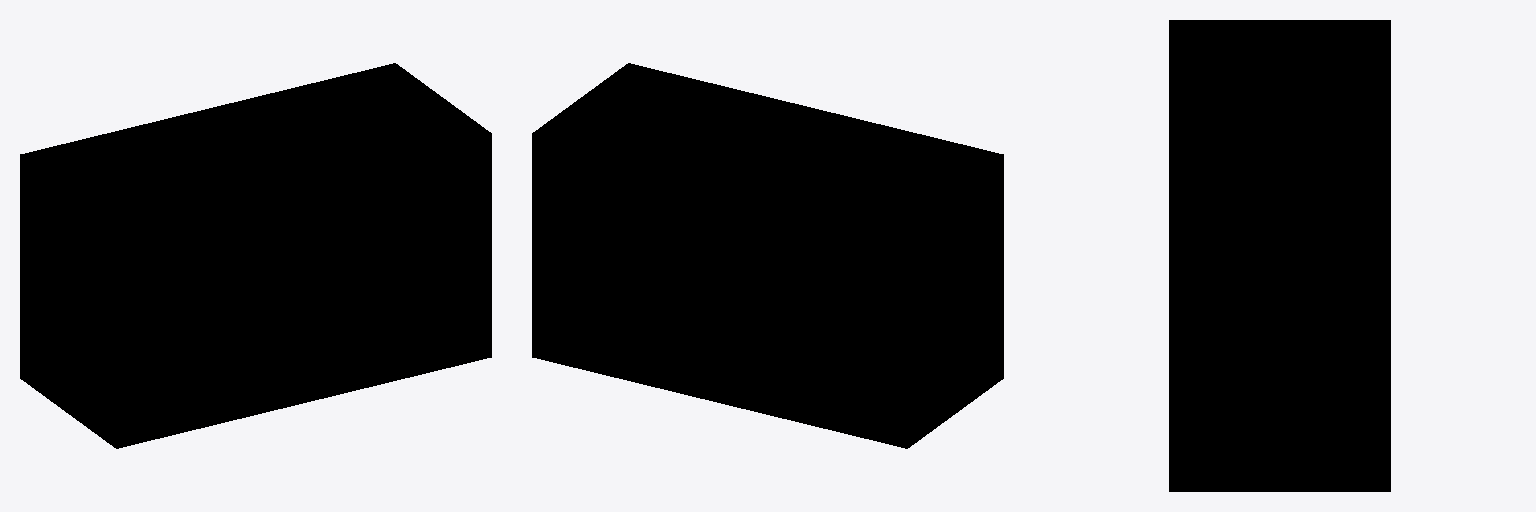
URDF robot description (go2):
<?xml version="1.0"?>
<robot name="go2">
  <link name="base_link">
    <visual>
      <geometry>
        <box size="0.7 0.31 0.4"/>
      </geometry>
      <material name="box_material">
        <color rgba="0.0 0.0 0.0 0.2"/>
      </material>
    </visual>
    <collision>
      <geometry>
        <box size="0.7 0.31 0.4"/>
      </geometry>
    </collision>
    <inertial>
      <mass value="15.0"/>
      <inertia ixx="0.320125" ixy="0" ixz="0" iyy="0.812500" iyz="0" izz="0.732625"/>
    </inertial>
  </link>
</robot>

--- Render facts (derived) ---
Views: 3 orthographic renders of the robot side by side, from view 1: azimuth 30°, elevation 25°; view 2: azimuth 150°, elevation 25°; view 3: azimuth 270°, elevation 25°.
Robot: go2 — 1 links, 0 joints (none); root link base_link; default pose: all joints at 0.
Visible links, largest first — view 1: base_link; view 2: base_link; view 3: base_link.
Link boxes in pixels (x1,y1,x2,y2): base_link: [20, 63, 491, 448]; base_link: [532, 63, 1003, 448]; base_link: [1169, 20, 1390, 491].
Bounding box of the posed robot: 0.7 × 0.31 × 0.4 m (x, y, z).
Geometry: primitives only (box / cylinder / sphere), no mesh files.
